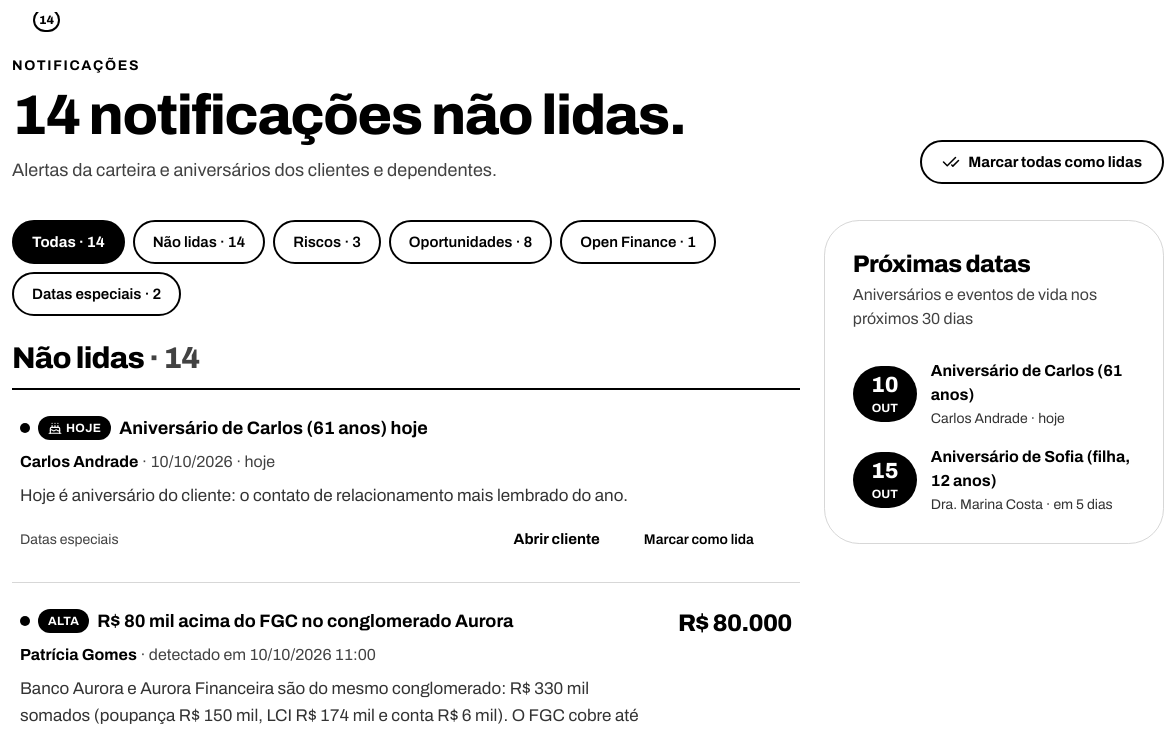
Test: TelaNotificacoes › marcar todas como lidas zera o contador do sino
What coordinates should you click on to do the following:
click the button "Marcar todas como lidas"
I would click on:
 (1042, 162)
Its box is [920, 140, 1164, 184].
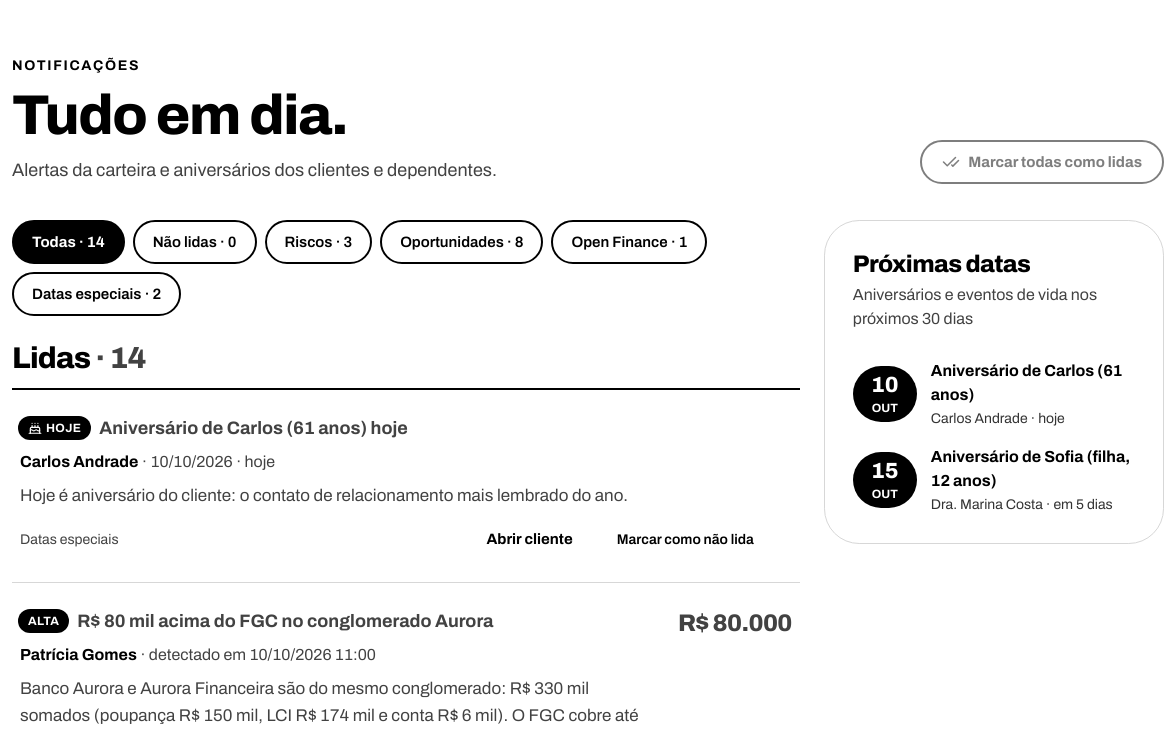
Now the heading "Tudo em dia." is shown, box [12, 85, 348, 146]
What coordinates should you click on to do the following:
click the button "Não lidas · 0"
I would click on:
 (195, 242)
Its box is [133, 220, 256, 264].
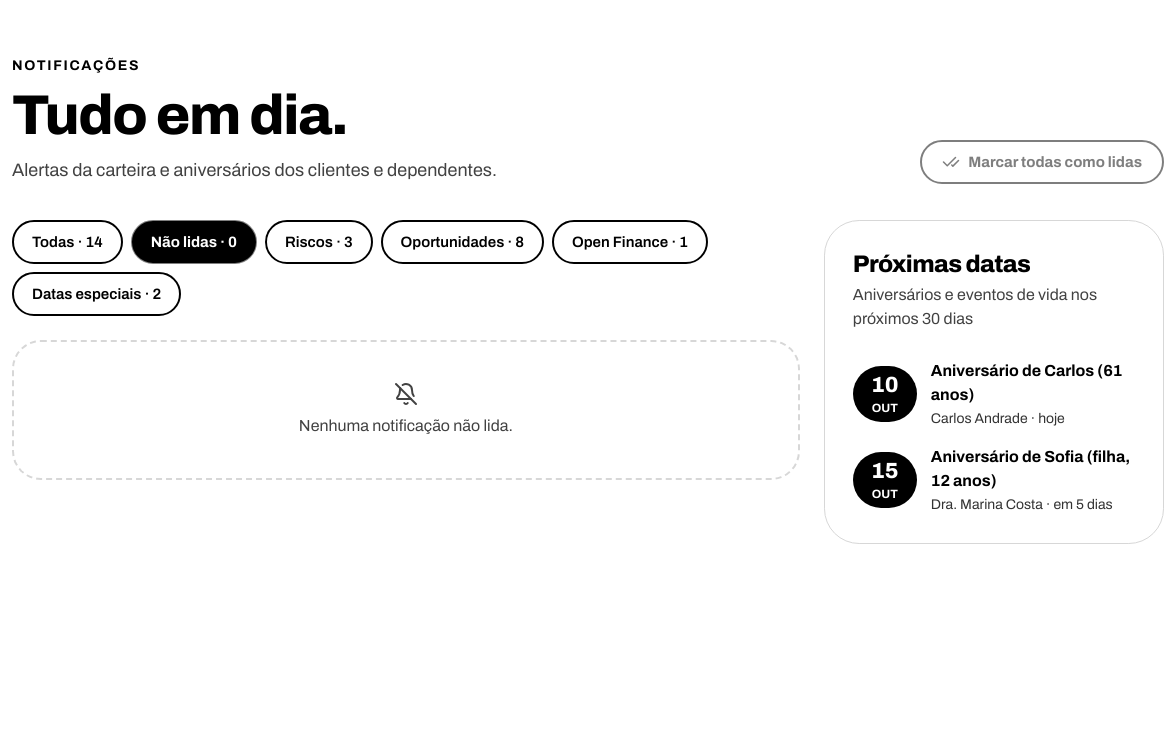
Now the text "Nenhuma notificação não lida." is shown, box [12, 340, 800, 480]
